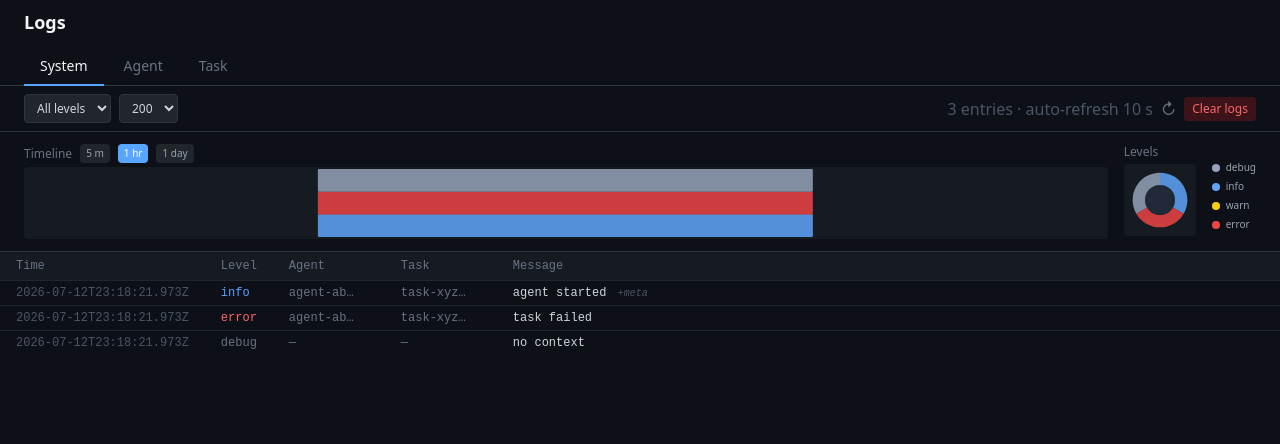
Logs — expandable context rows › expands context details on row click
Check: the text "agent started" is shown, box [513,286,614,300]
// Click the row with metadata
Click the text "agent started" at (640, 293), box [0,280,1279,306]
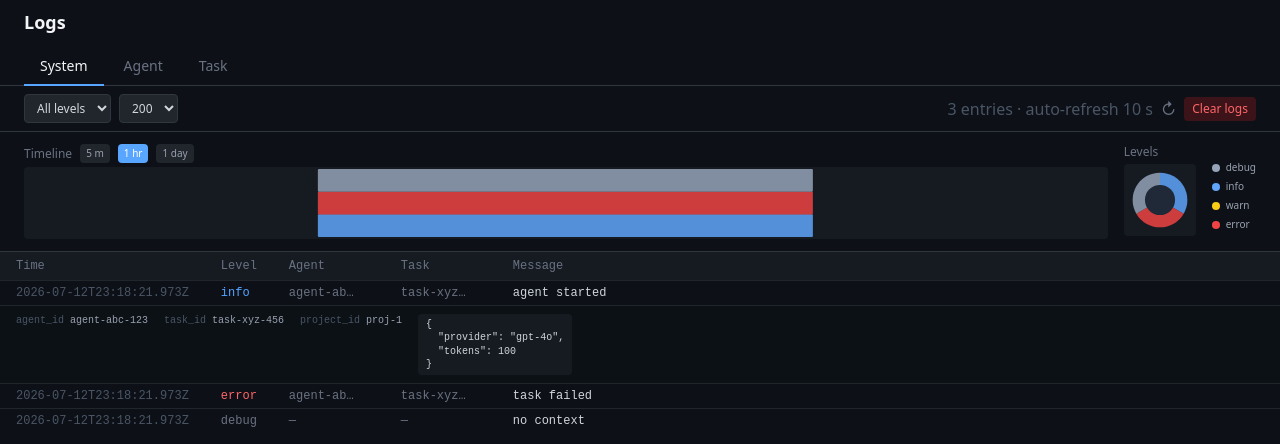
Check: the text "agent-abc-123" is shown, box [64,315,148,326]
Check: the text "{ \"provider\": \"gpt-4o\", \"tokens\": 100 }" is shown, box [418,314,572,375]
